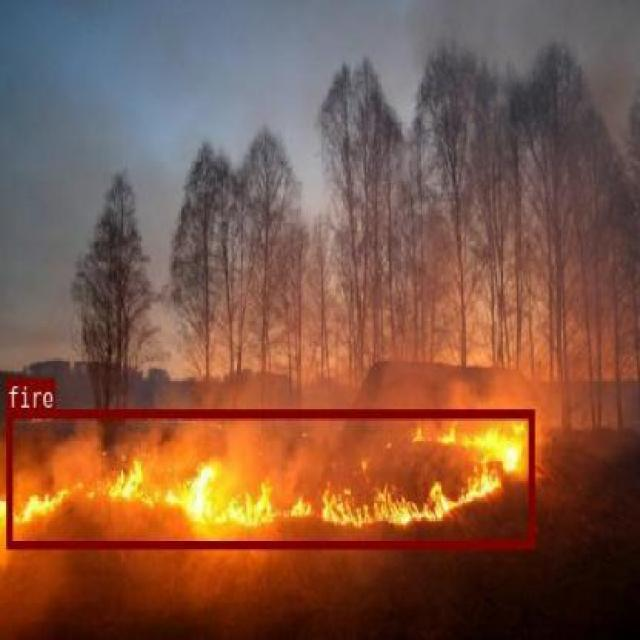fire: (5, 408, 533, 547)
